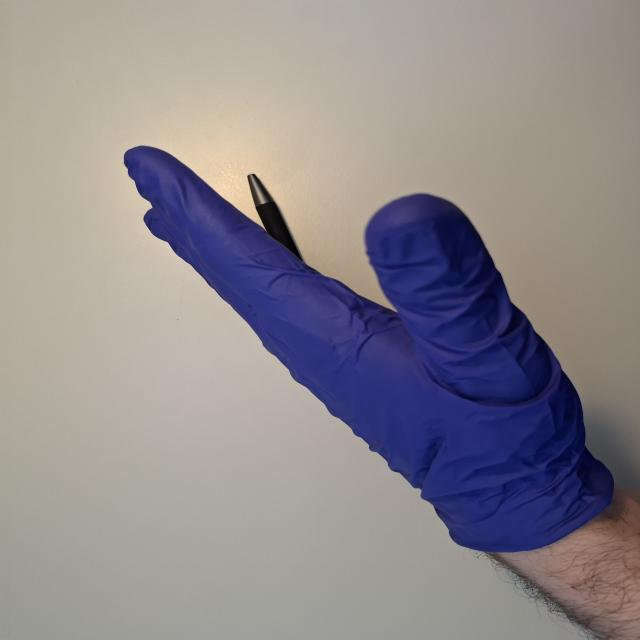glove_on: (122, 144, 597, 555)
